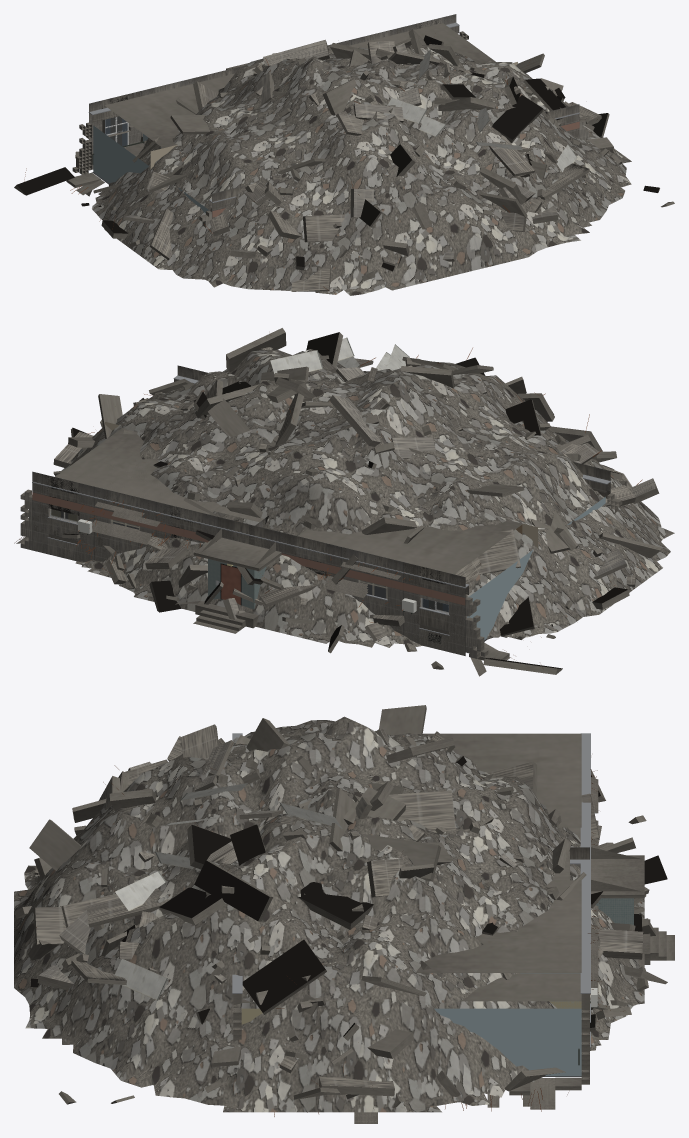
The model's file is bld_d12_t.glb.
The picture shows the model from 3 angles, top to bottom: view 1: azimuth 30°, elevation 25°; view 2: azimuth 150°, elevation 25°; view 3: azimuth 270°, elevation 25°; orthographic projection. The views are drawn at different scales.
Parts seen in each view (by area): view 1: rubble_xl, sec_ground_F_s2c, edge_L_F_a, sec_ground_F_s0, sec_ground_F_s2a, sec_ground_Y_s0, sec_floor0_F_s0, sec_ground_F_s2b, edge_L_F_b; view 2: rubble_xl, sec_ground_F_s0, sec_floor0_F_s0, sec_ground_F_s2c, sec_ground_F_s2a, sec_ground_F_s2b, edge_L_F_a, sec_top0_F_s0, rubble_l, sec_floor0_F_s2a, rubble_m, sec_ground_Y_s0 (+2 smaller); view 3: rubble_xl, edge_R_F_a, sec_ground_F_s2c, sec_ground_F_s2b, sec_ground_F_s0, sec_floor0_F_s2a, sec_top0_F_s0, sec_ground_F_s2a, rubble_l, edge_R_F_b.
Part boxes in pixels (x1,y1,x2,y2): rubble_xl: [14, 29, 674, 295]; sec_ground_F_s2c: [89, 66, 243, 156]; edge_L_F_a: [71, 122, 148, 196]; sec_ground_F_s0: [89, 14, 517, 170]; sec_ground_F_s2a: [327, 14, 495, 63]; sec_ground_Y_s0: [151, 62, 579, 218]; sec_floor0_F_s0: [89, 120, 151, 170]; sec_ground_F_s2b: [329, 26, 476, 62]; edge_L_F_b: [66, 124, 100, 221]; rubble_xl: [53, 328, 674, 674]; sec_ground_F_s0: [32, 422, 537, 655]; sec_floor0_F_s0: [32, 492, 537, 655]; sec_ground_F_s2c: [280, 519, 522, 635]; sec_ground_F_s2a: [32, 427, 217, 551]; sec_ground_F_s2b: [72, 434, 217, 547]; edge_L_F_a: [465, 549, 541, 676]; sec_top0_F_s0: [32, 481, 469, 596]; rubble_l: [75, 552, 500, 651]; sec_floor0_F_s2a: [32, 492, 203, 561]; rubble_m: [149, 575, 375, 623]; sec_ground_Y_s0: [105, 365, 610, 546]; rubble_xl: [14, 705, 667, 1112]; edge_R_F_a: [434, 1008, 589, 1110]; sec_ground_F_s2c: [423, 733, 598, 833]; sec_ground_F_s2b: [424, 880, 598, 962]; sec_ground_F_s0: [590, 847, 674, 1022]; sec_floor0_F_s2a: [459, 973, 581, 1008]; sec_top0_F_s0: [580, 733, 590, 993]; sec_ground_F_s2a: [416, 908, 598, 1010]; rubble_l: [436, 825, 648, 1096]; edge_R_F_b: [445, 1017, 589, 1111].
Size of what is drawn, in the model's own units: 30.71 by 9.39 by 24.1.
1 material, 1 textured.
